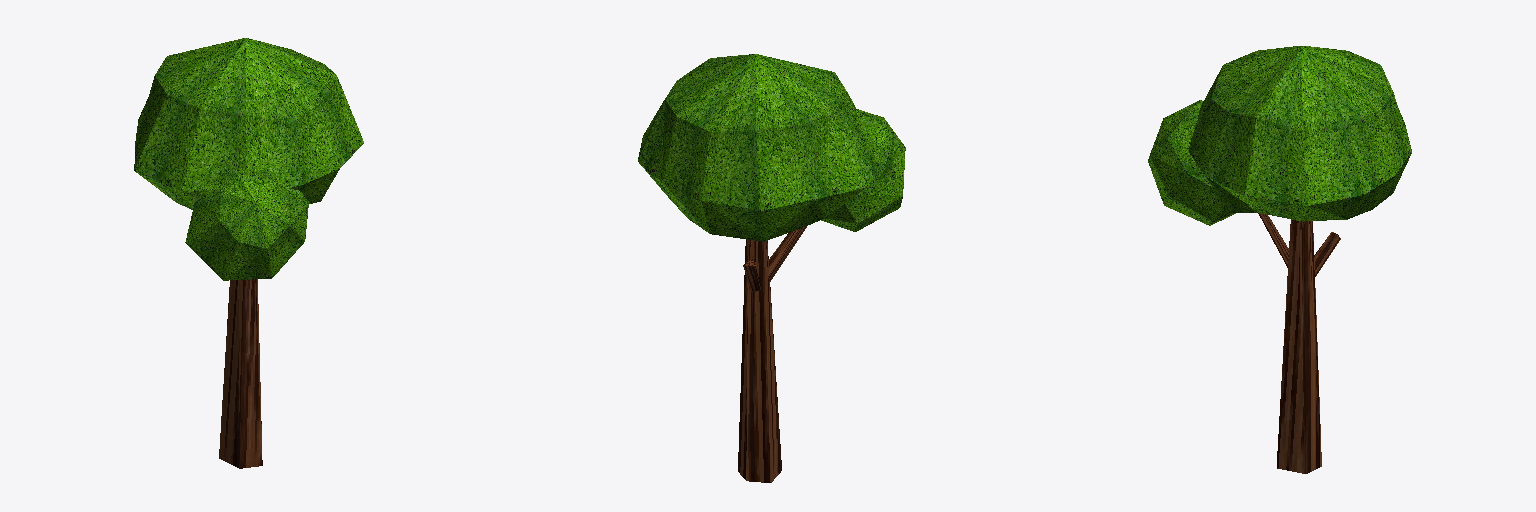
3 views of the same model, side by side, from view 1: azimuth 30°, elevation 25°; view 2: azimuth 150°, elevation 25°; view 3: azimuth 270°, elevation 25° (orthographic).
Visible parts, largest first — view 1: tree:Mesh; view 2: tree:Mesh; view 3: tree:Mesh.
Part boxes in pixels (bbox=[...]): tree:Mesh: bbox=[134, 38, 363, 468]; tree:Mesh: bbox=[638, 54, 905, 482]; tree:Mesh: bbox=[1148, 46, 1411, 473].
Size of the model in its own units: 2.02 by 3.67 by 2.1.
Materials: 1 (1 with a texture image).